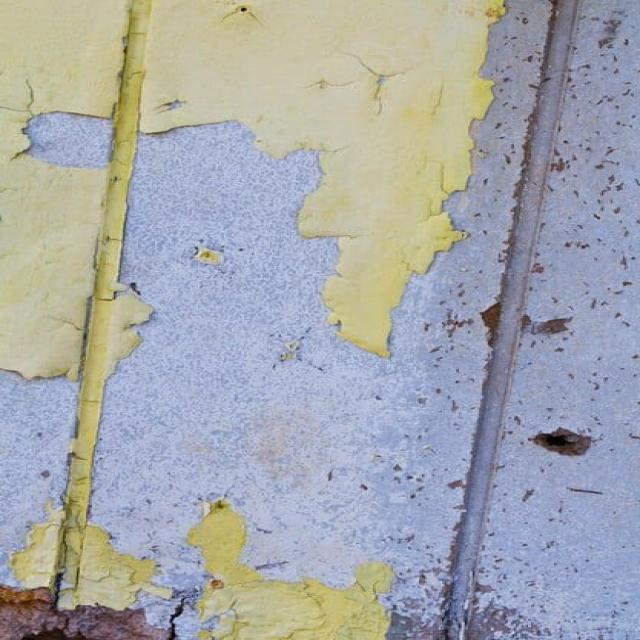peeling: (3, 20, 635, 627)
